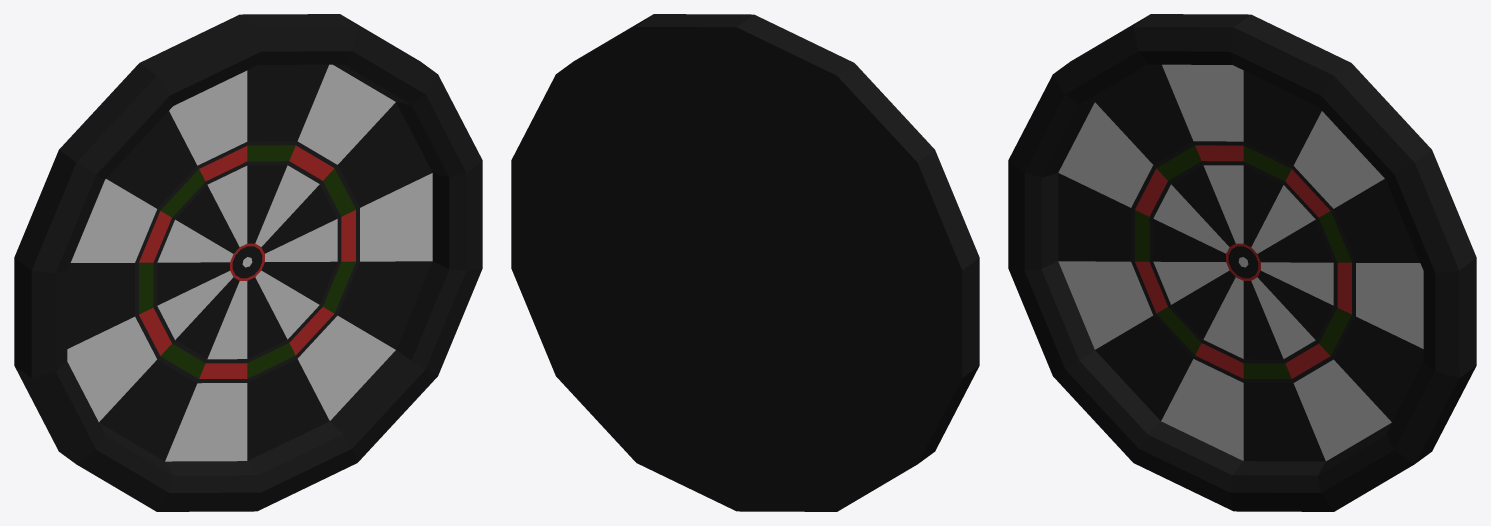
File: DartBoard.fbx
3 renders of one model, left to right at view 1: azimuth 30°, elevation 25°; view 2: azimuth 150°, elevation 25°; view 3: azimuth 330°, elevation 25°, orthographic.
Parts seen in each view (by area): view 1: DartBoard; view 2: DartBoard; view 3: DartBoard.
Part boxes in pixels (x1,y1,x2,y2): DartBoard: [14, 14, 482, 511]; DartBoard: [511, 14, 979, 511]; DartBoard: [1008, 14, 1476, 511].
Bounding box in the file's own units: 30.12 × 30.9 × 2.46.
